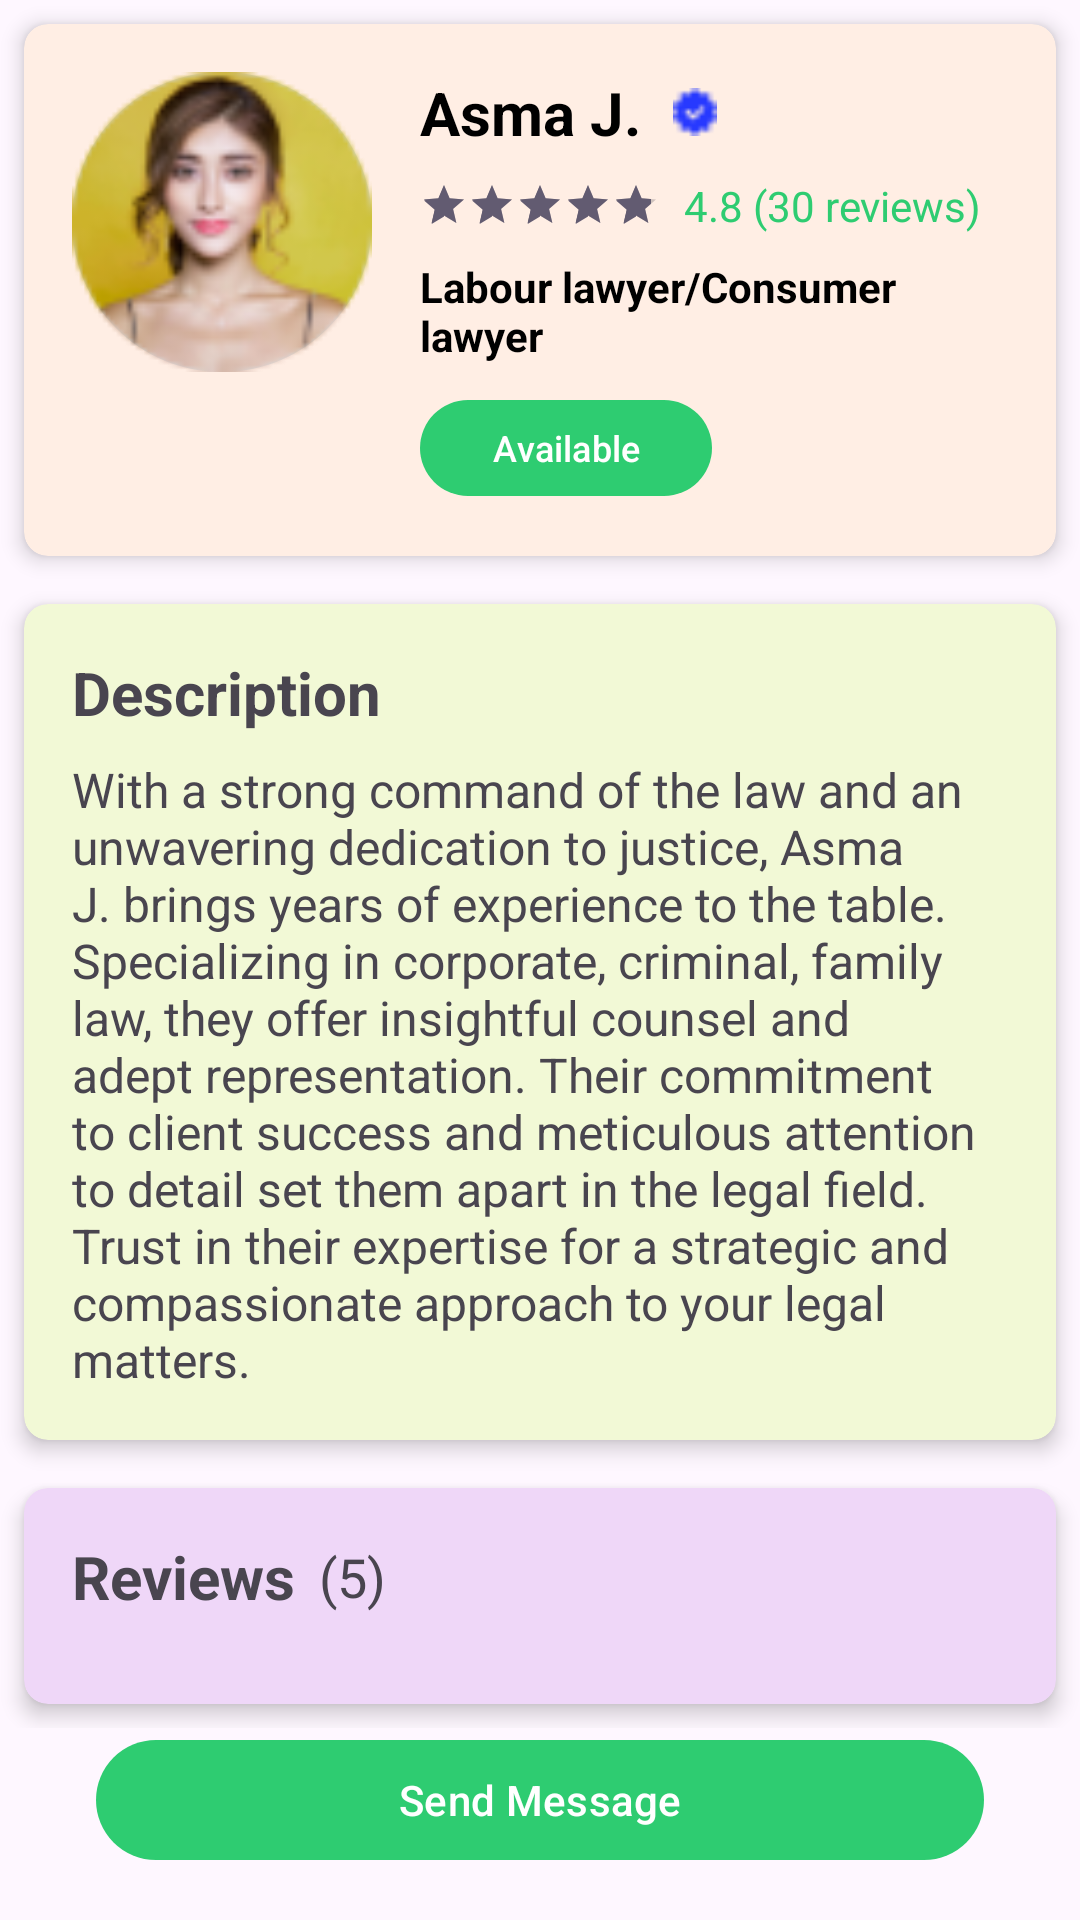

Screen size 1080px×1920px. Icon name, then its center in pixels as point (x, y):
Lawyer profile photo: point (222, 222)
Verified badge: point (695, 112)
